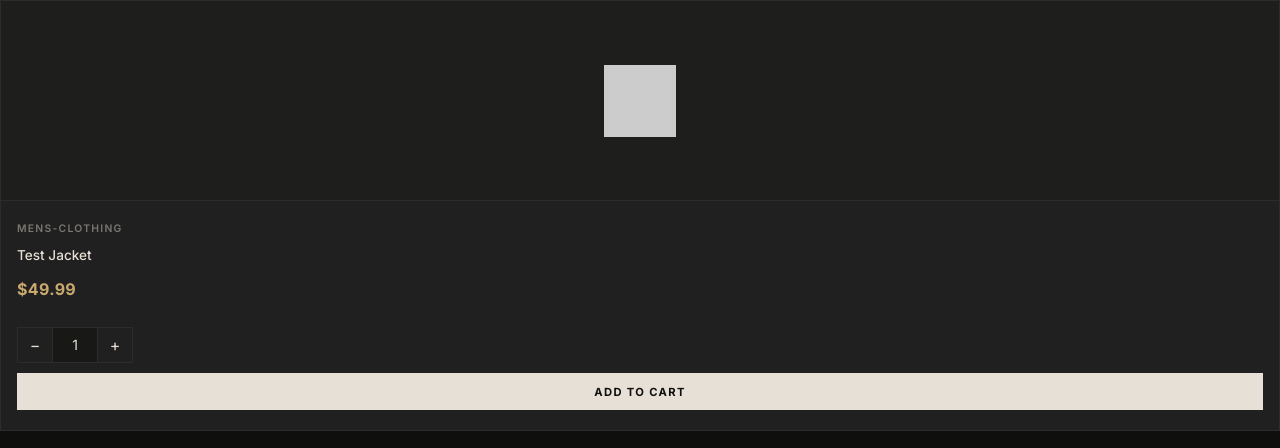
Test: ProductCard › increments quantity when + is clicked
This screenshot has width=1280, height=448.
Step 1. Click the button named "Increase quantity" → (115, 345), box [98,328,132,362]
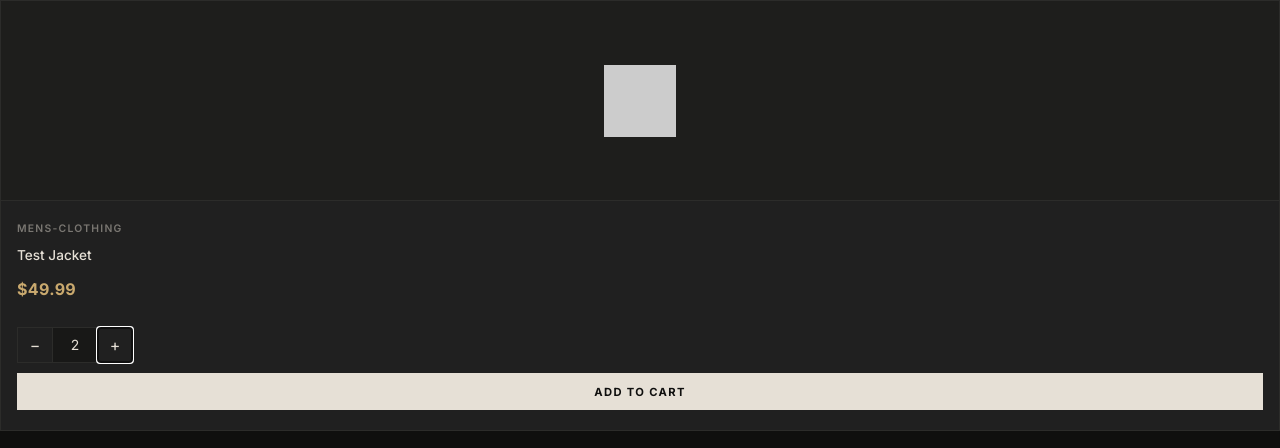
Check: the number field named "Quantity" holds "2", box [52,328,98,362]
